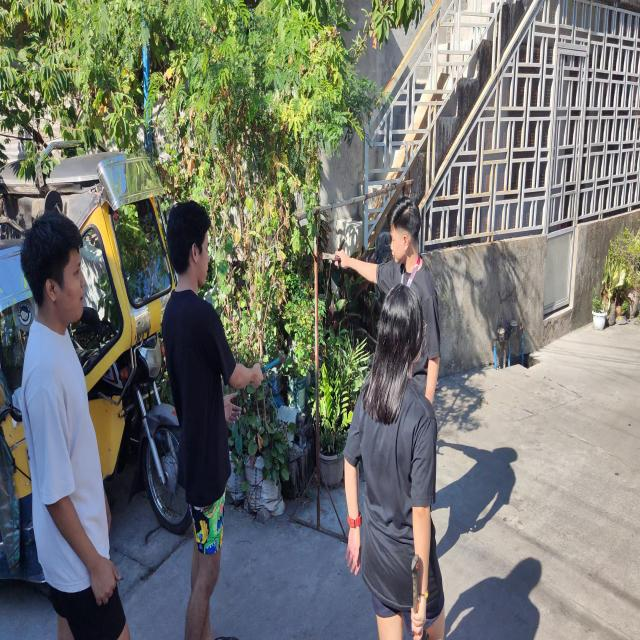hammer: (260, 351, 286, 374), (322, 252, 341, 262)
